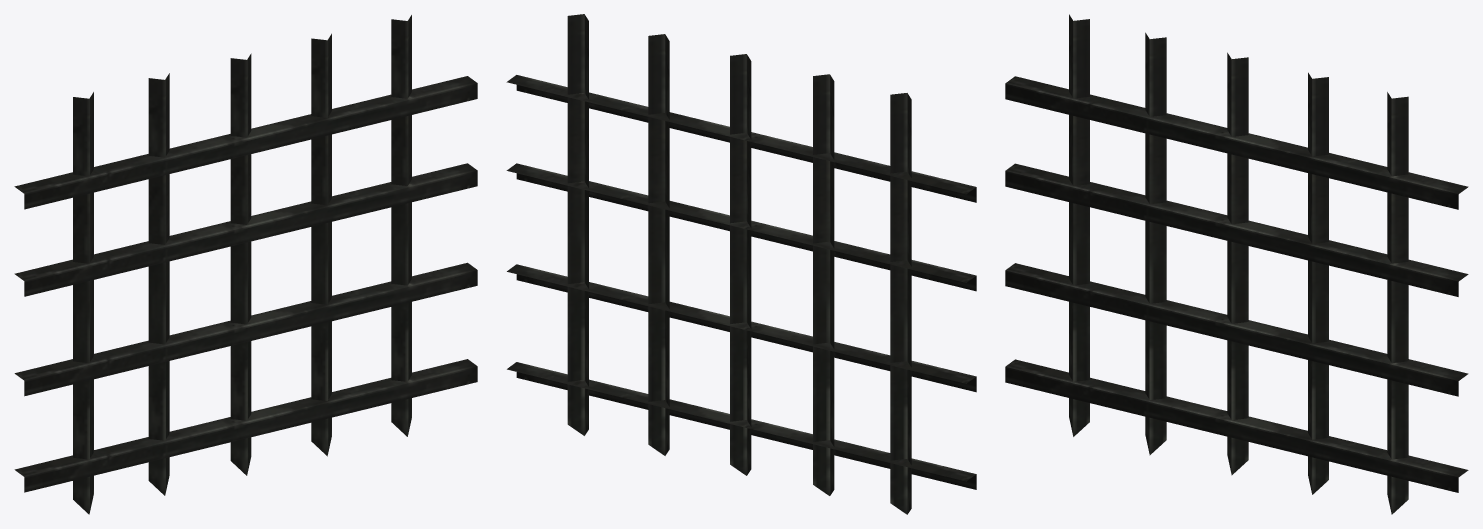
The model's file is chengmen@open.FBX.
3 views of the same model, side by side, from view 1: azimuth 30°, elevation 25°; view 2: azimuth 150°, elevation 25°; view 3: azimuth 330°, elevation 25° (orthographic).
Parts seen in each view (by area): view 1: chengmen; view 2: chengmen; view 3: chengmen.
Part boxes in pixels (<box>): chengmen: <box>14,15,477,514</box>; chengmen: <box>506,14,976,514</box>; chengmen: <box>1005,14,1468,514</box>.
Size of the model in its own units: 6.69 by 0.2563 by 5.87.
